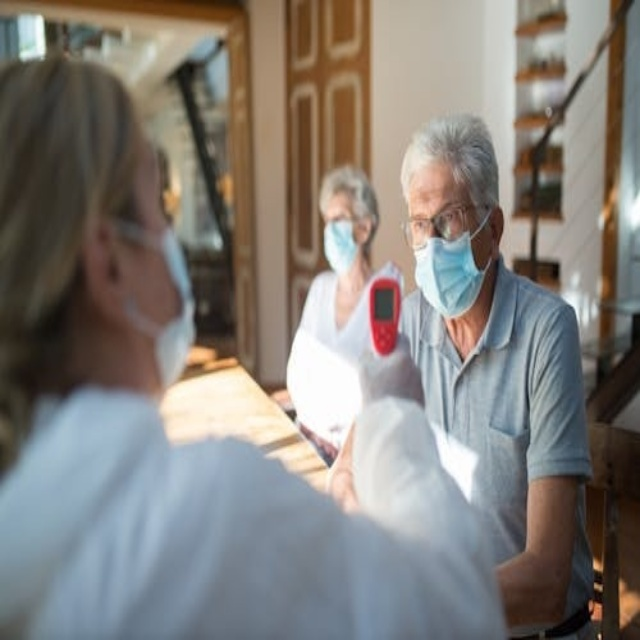Gafas: (403, 190, 481, 247)
Guantes: (356, 341, 428, 411)
Mascara: (107, 221, 196, 387), (411, 210, 494, 318), (323, 219, 360, 274)
